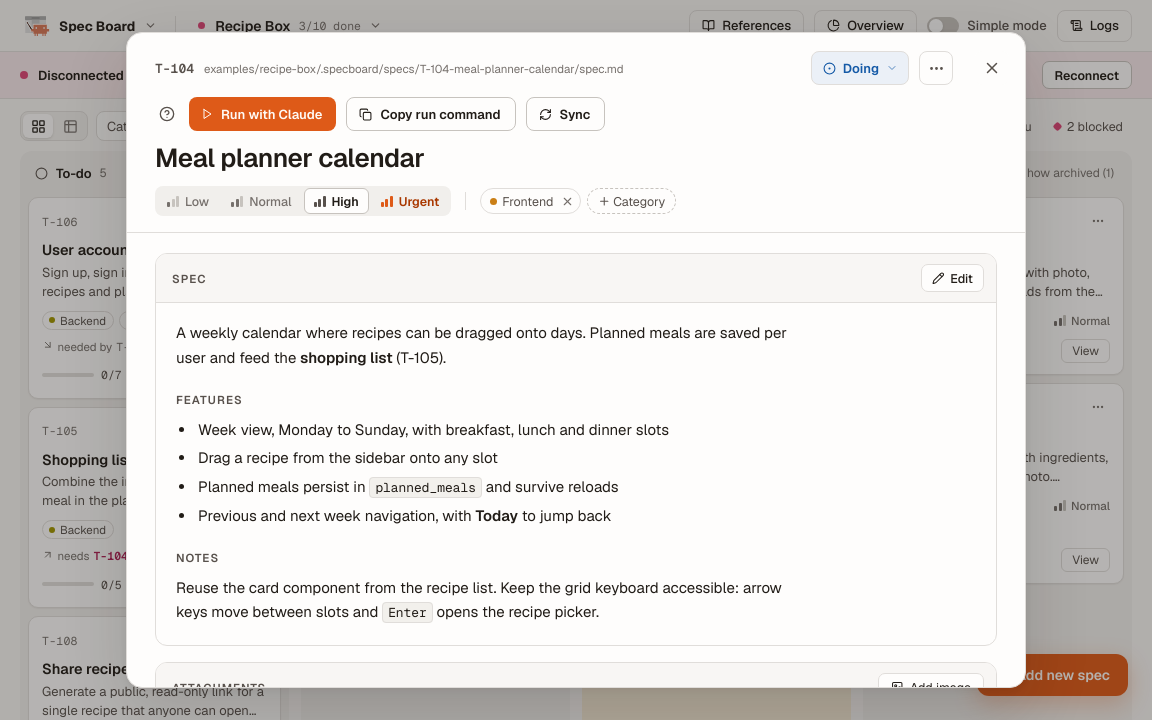
Test: refusals › while disconnected: the offline toast and no request
Step 1. Click the button "Run with Claude" → (263, 114), box [189,97,336,131]
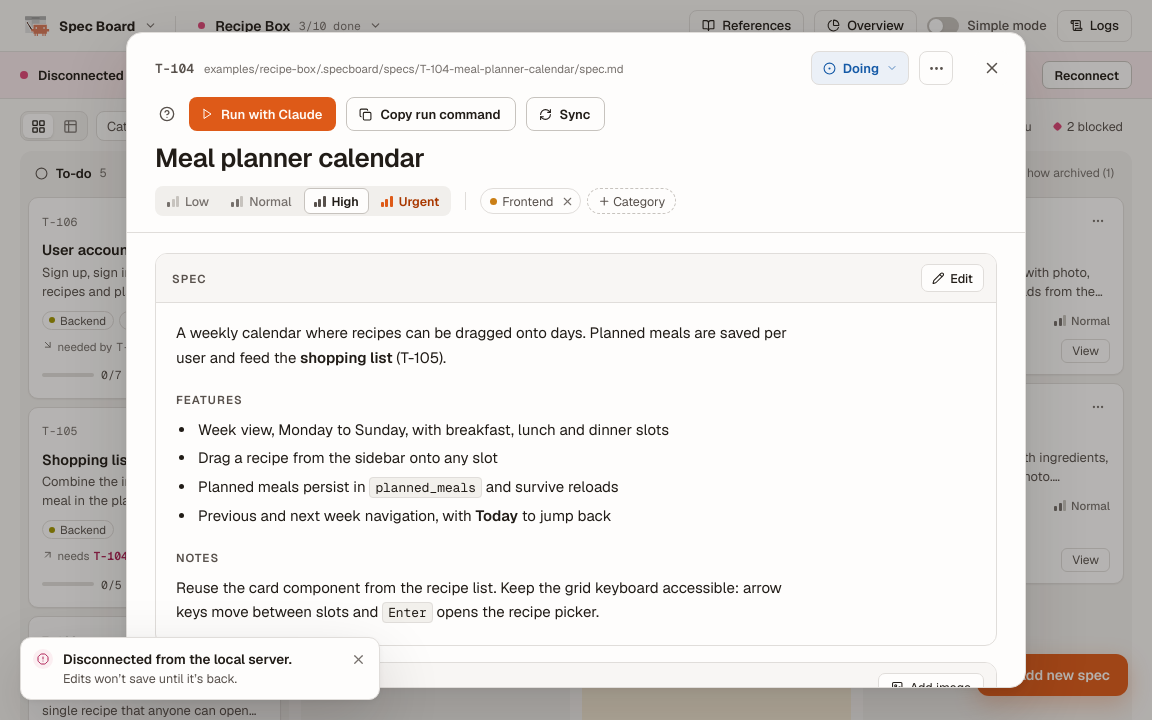
Check: the text "Edits won’t save until it’s back." is shown once, box [63,670,237,687]
